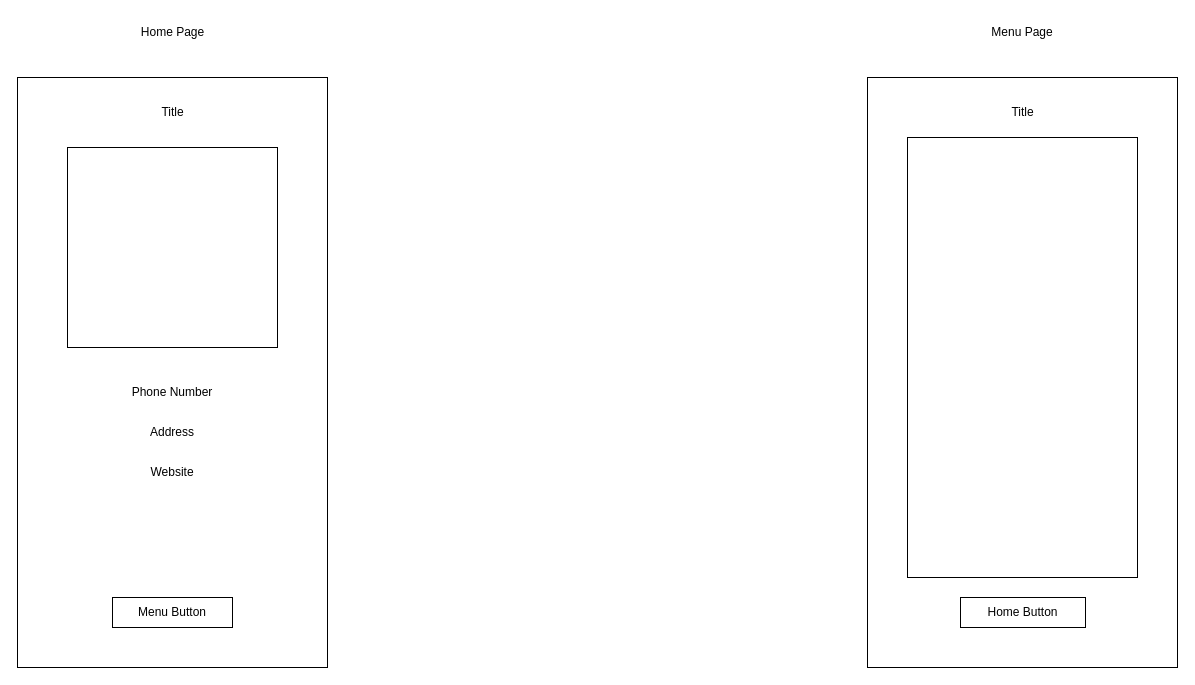
Image size: 1195x685. Some labels were removed from this diagram. Each missing label, with the box of its shape:
Image: (66, 146, 278, 348)
Menu List: (906, 136, 1138, 578)
